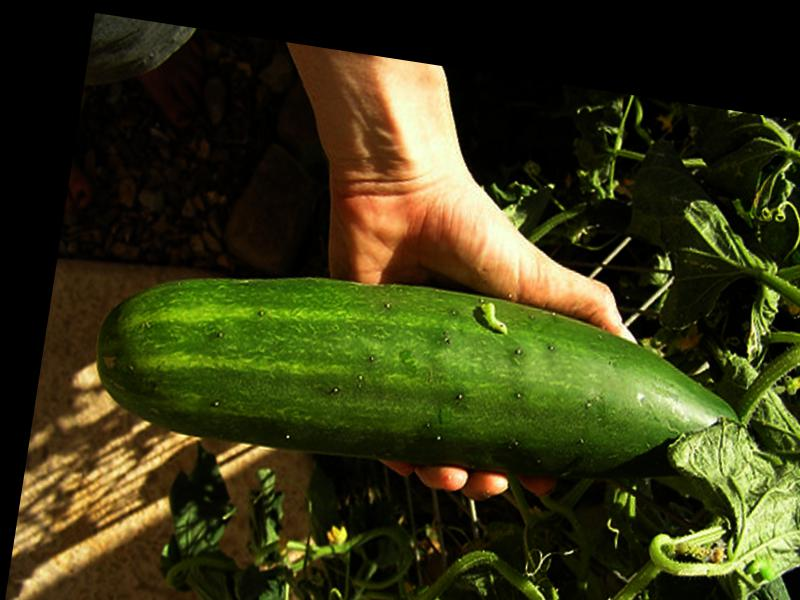Cucumber: (85, 239, 759, 520)
